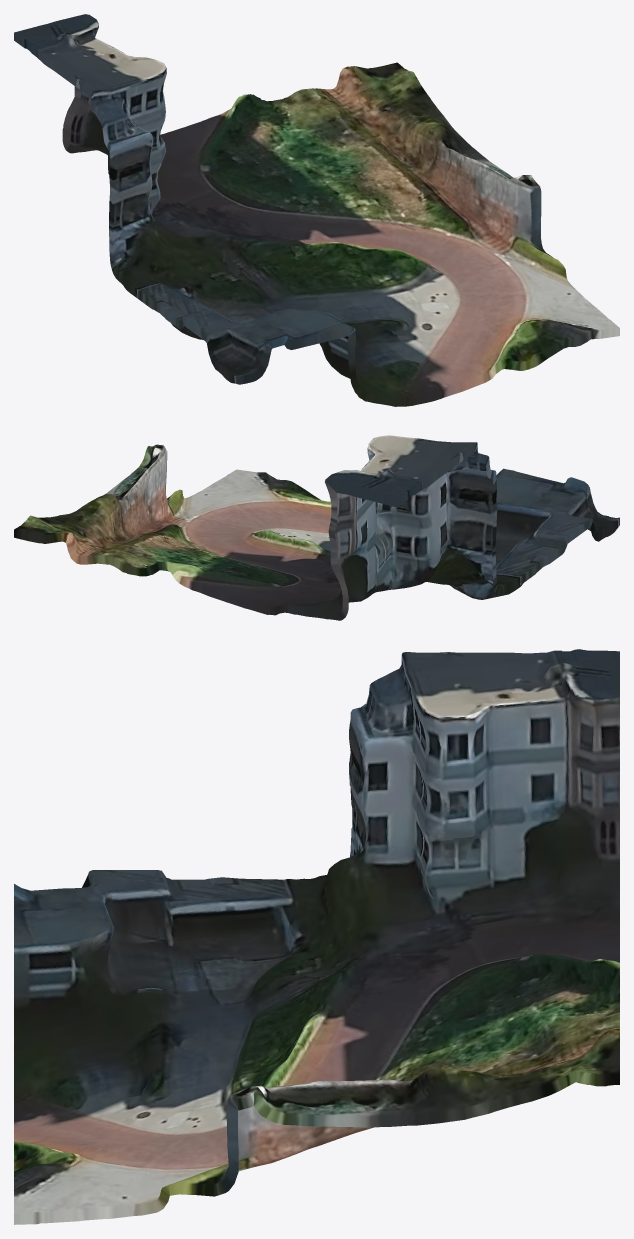
File: z20-167716-405196-h0-yup-uvflip-v3-world.glb
3 renders of one model, top to bottom at view 1: azimuth 30°, elevation 25°; view 2: azimuth 150°, elevation 25°; view 3: azimuth 270°, elevation 25°, orthographic. The views are drawn at different scales.
Size of the model in its own units: 30.16 by 19.6 by 30.32.
1 material, 1 textured.
